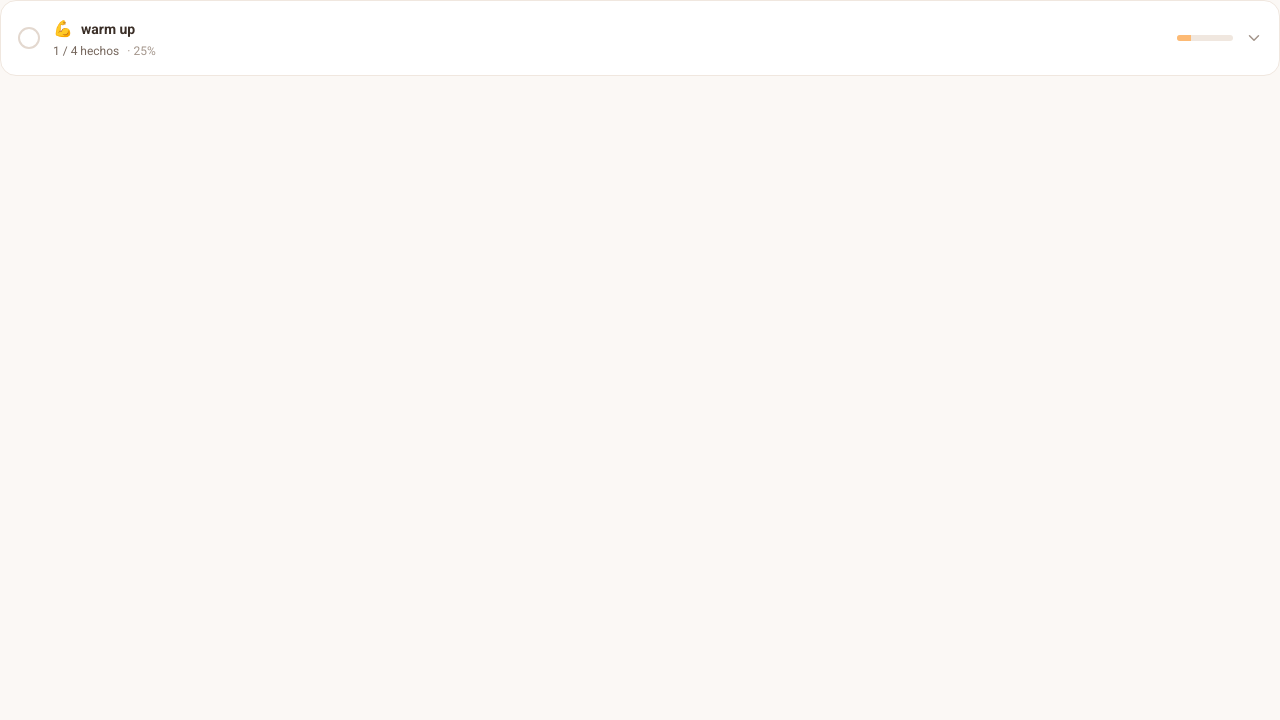
lo resuelto en una línea › en un grupo con pendientes, lo resuelto es una fila densa
Step 1. Click the text "warm up" → [108, 29], box [81,19,135,39]
(page scrolled)
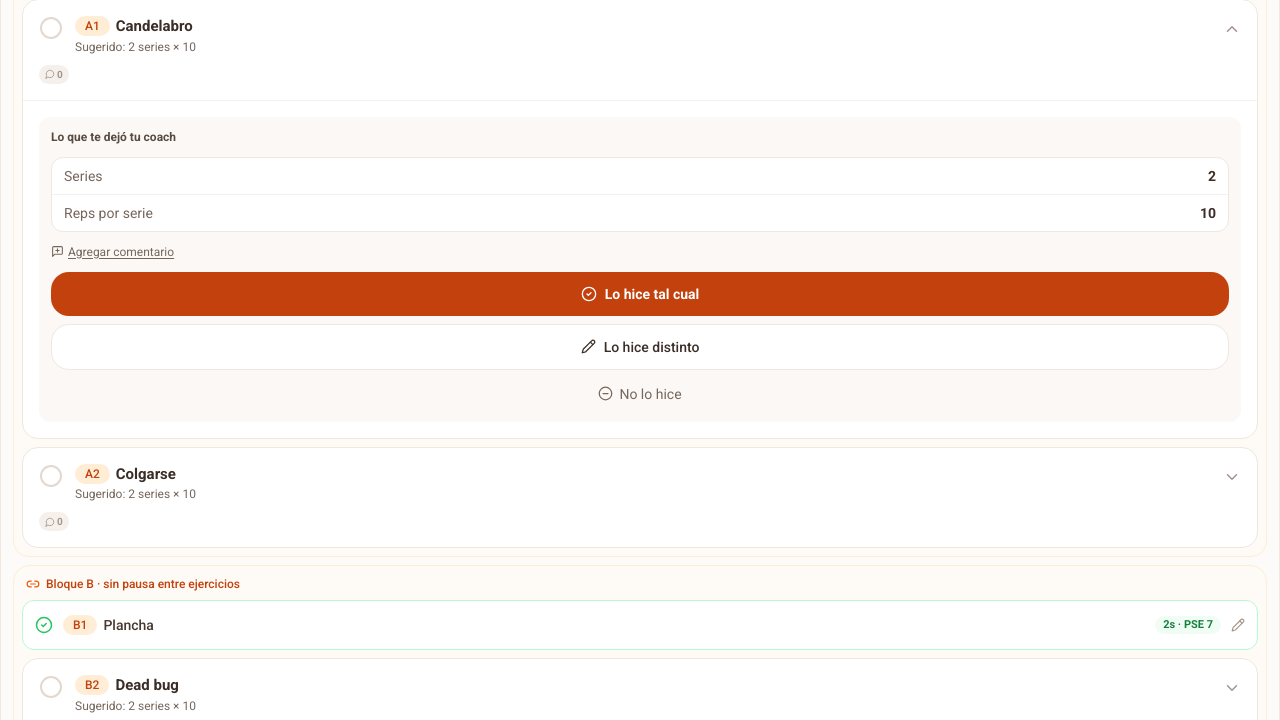
Now the button with aria-label "ver o corregir plancha" is shown, box [23,601,1257,649]
Now the text "Dead bug" is shown, box [115,676,179,694]
